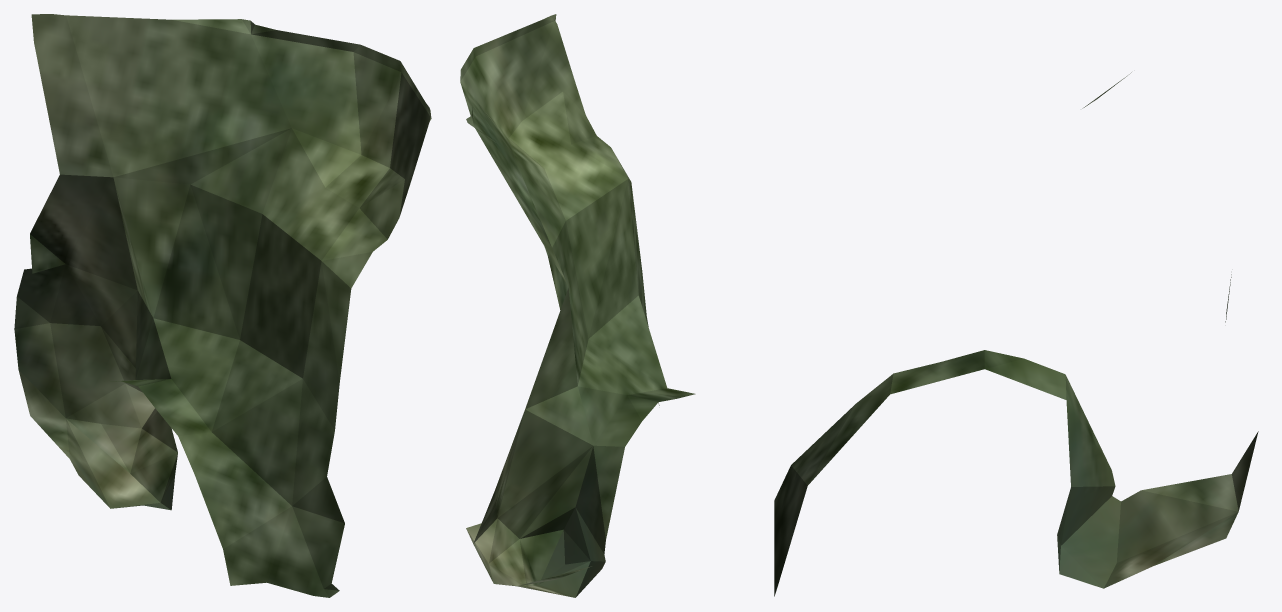
3 views of the same model, side by side, from view 1: azimuth 30°, elevation 25°; view 2: azimuth 150°, elevation 25°; view 3: azimuth 270°, elevation 25° (orthographic). The views are drawn at different scales.
Bounding box in the file's own units: 1.14 × 2.23 × 1.87.
1 material, 1 textured.
